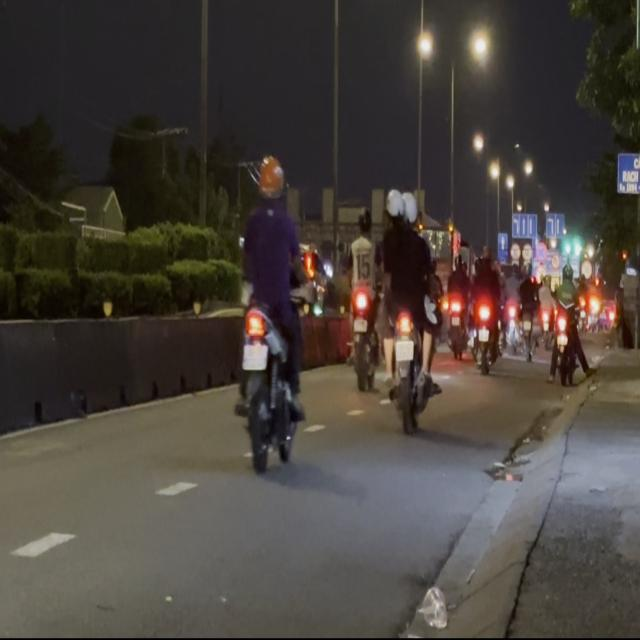helmet: (256, 154, 285, 204), (385, 188, 405, 224), (401, 189, 418, 226)
licenseplate: (232, 152, 307, 468), (376, 186, 440, 430)
nohelmet: (242, 342, 267, 368), (395, 339, 413, 360)
